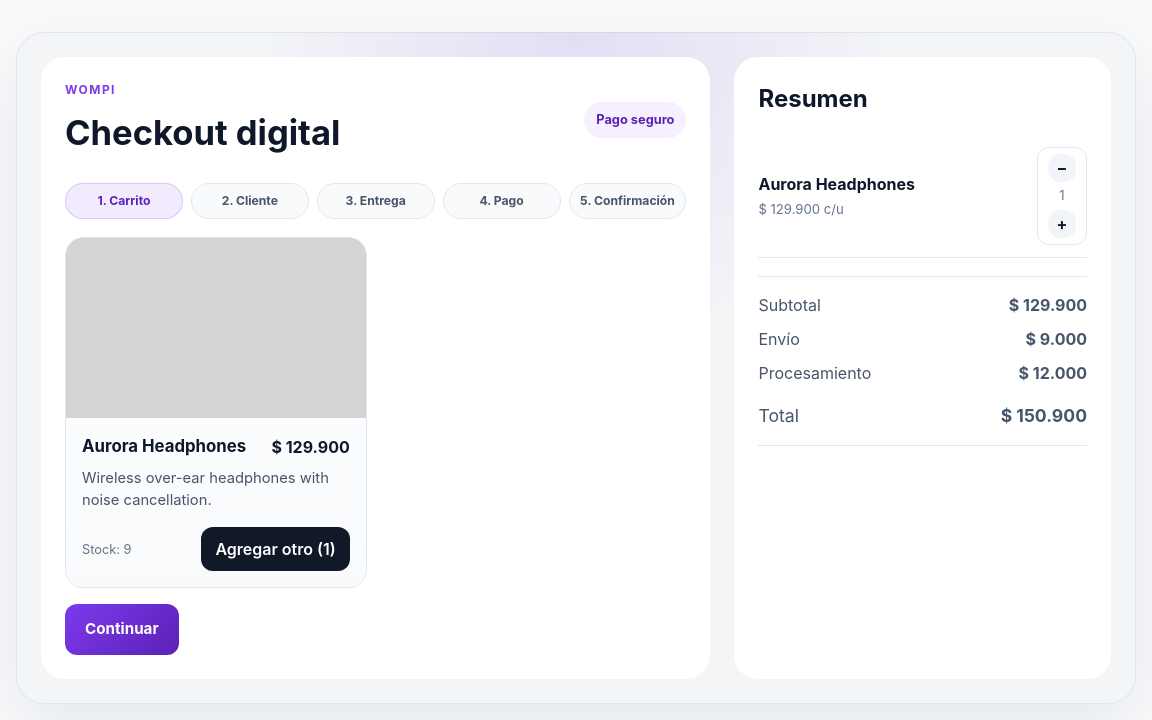
Test: App checkout flow › Cart interactions › removes item when quantity goes to 0
Check: the text "Aurora Headphones" is shown, box [758, 172, 915, 196]
Click the button "−" at (1062, 168), box [1048, 154, 1076, 182]
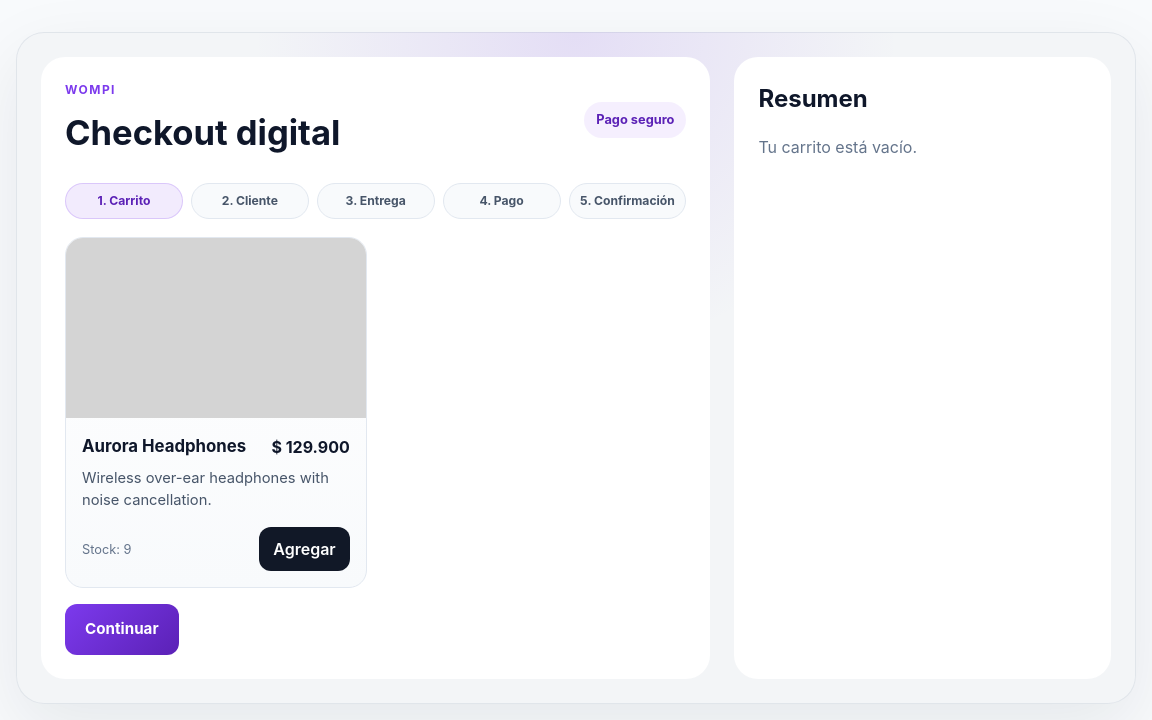
Check: the text "Tu carrito está vacío." is shown, box [758, 137, 917, 157]
